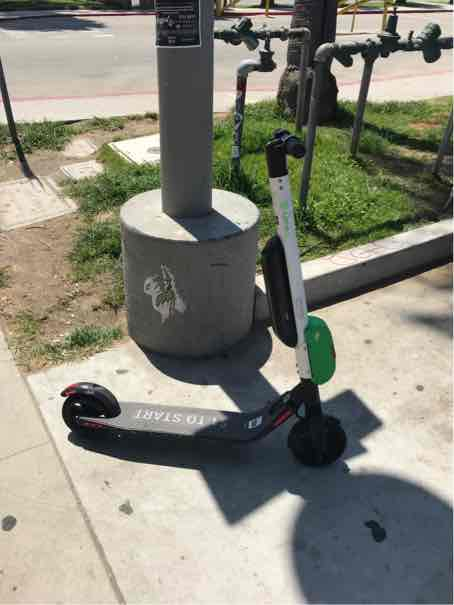scooter: (57, 123, 364, 483)
